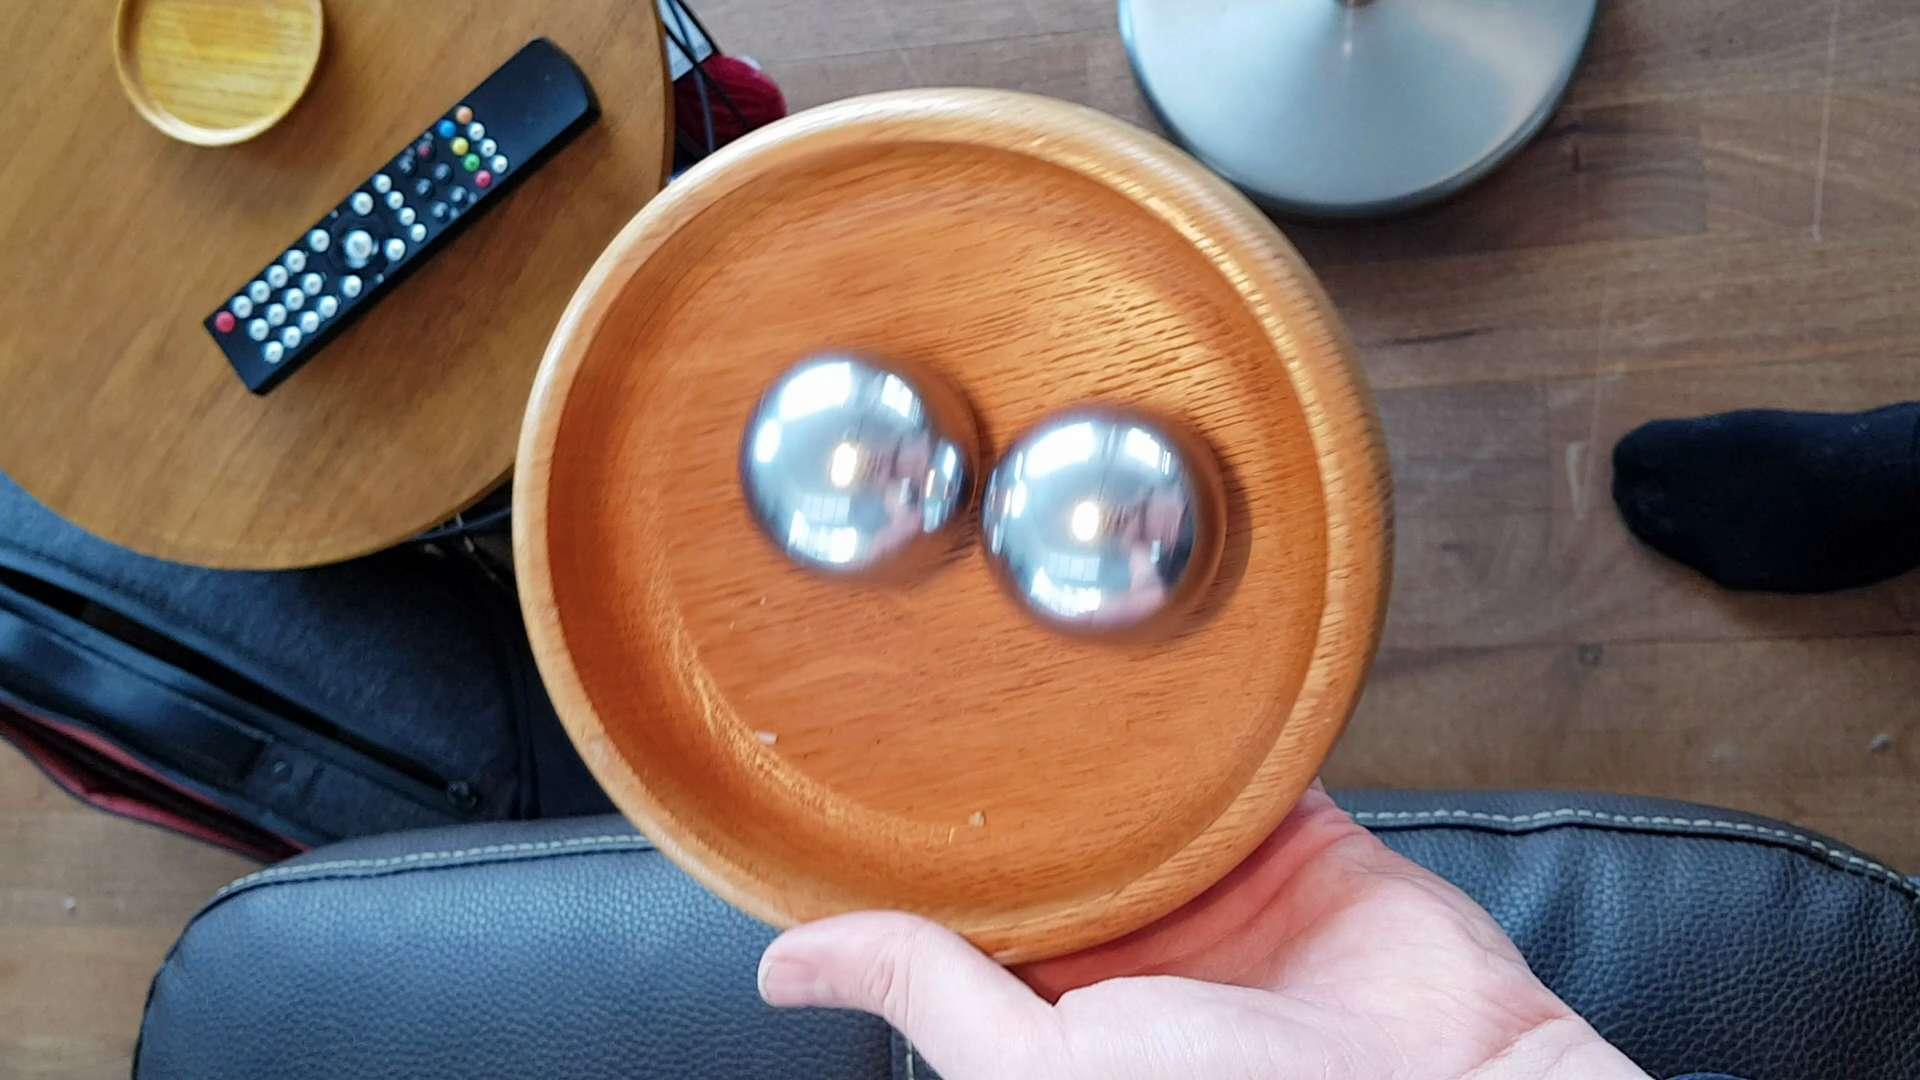sphere: (978, 396, 1232, 662), (737, 339, 973, 593)
